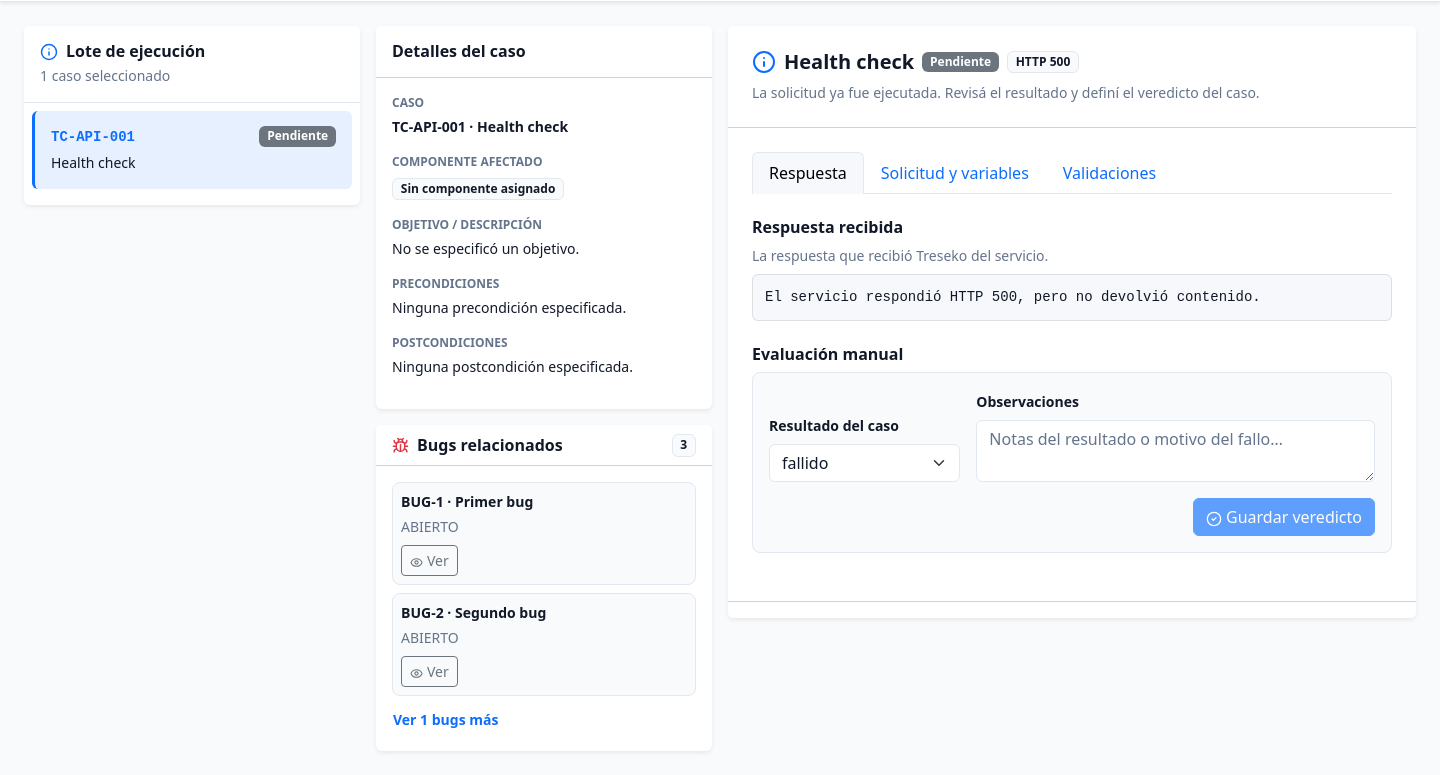
Test case: ApiExecutionConsolePage › limita los bugs relacionados a dos y permite expandirlos y contraerlos
(page scrolled)
Expected: the text "BUG-1 · Primer bug" is shown, left=401, top=492, right=533, bottom=511
Expected: the text "BUG-2 · Segundo bug" is shown, left=401, top=603, right=546, bottom=622
Click the button "Ver 1 bugs más" at (446, 720), box left=392, top=704, right=499, bottom=735
(page scrolled)
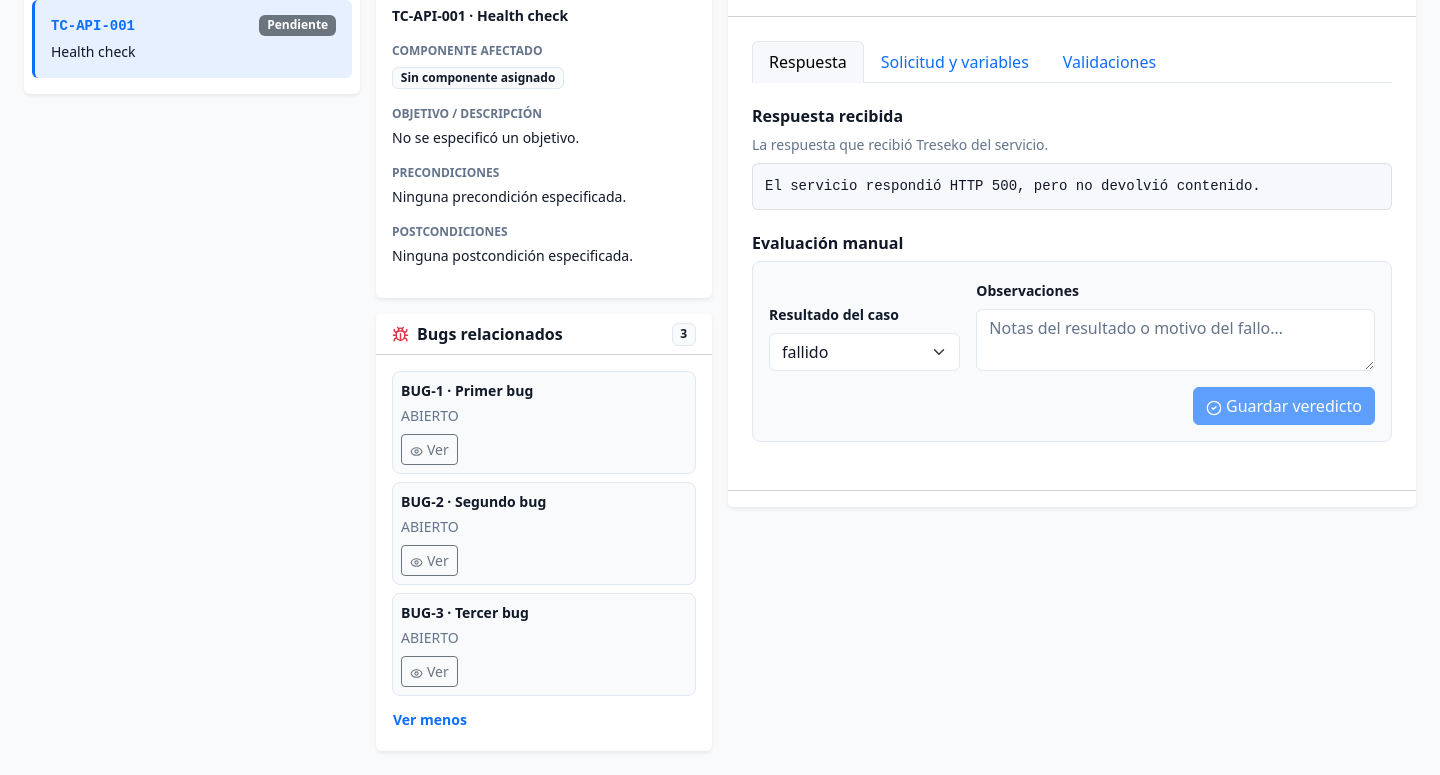
Expected: the text "BUG-3 · Tercer bug" is shown, left=401, top=603, right=529, bottom=622
Click the button "Ver menos" at (430, 720), box left=392, top=704, right=468, bottom=735
(page scrolled)
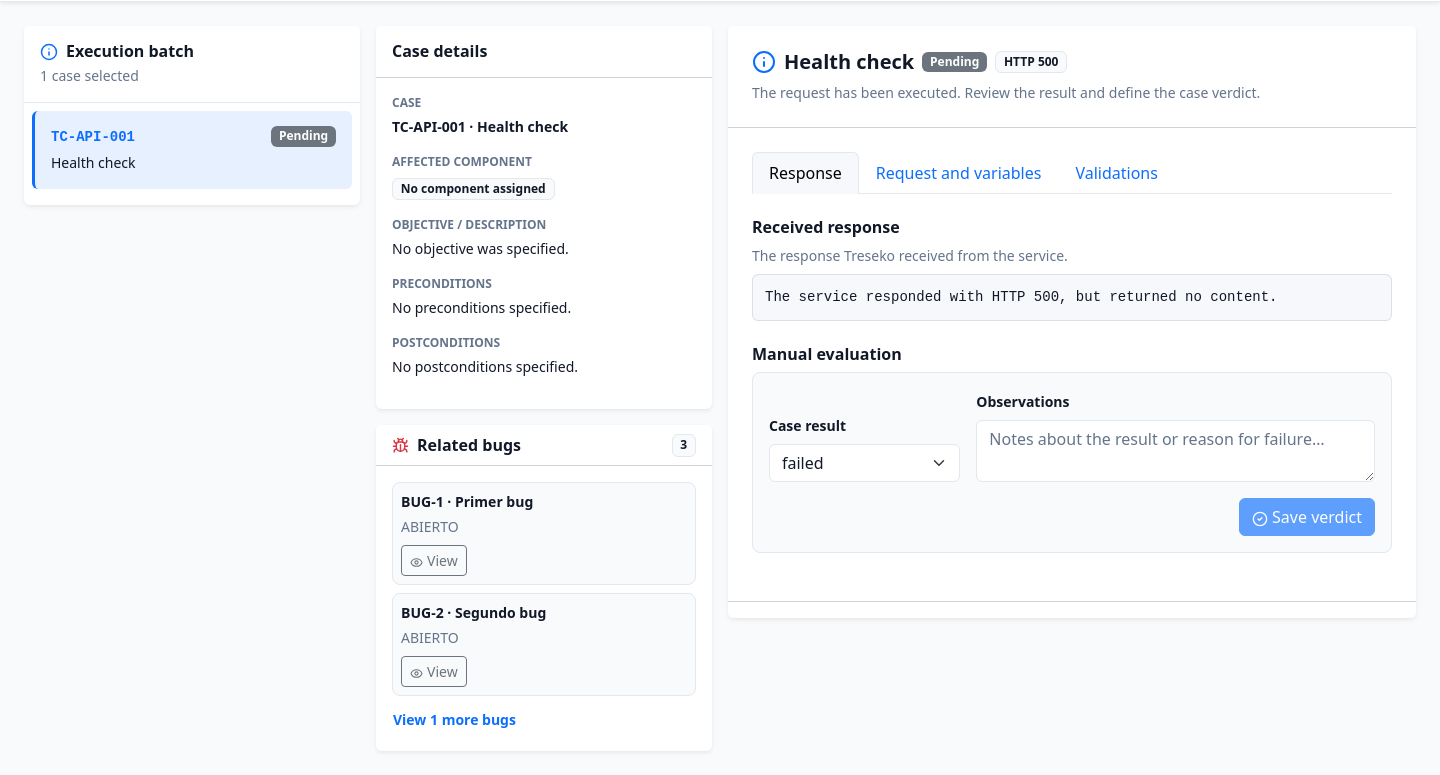
Expected: the text "BUG-3" is gone
